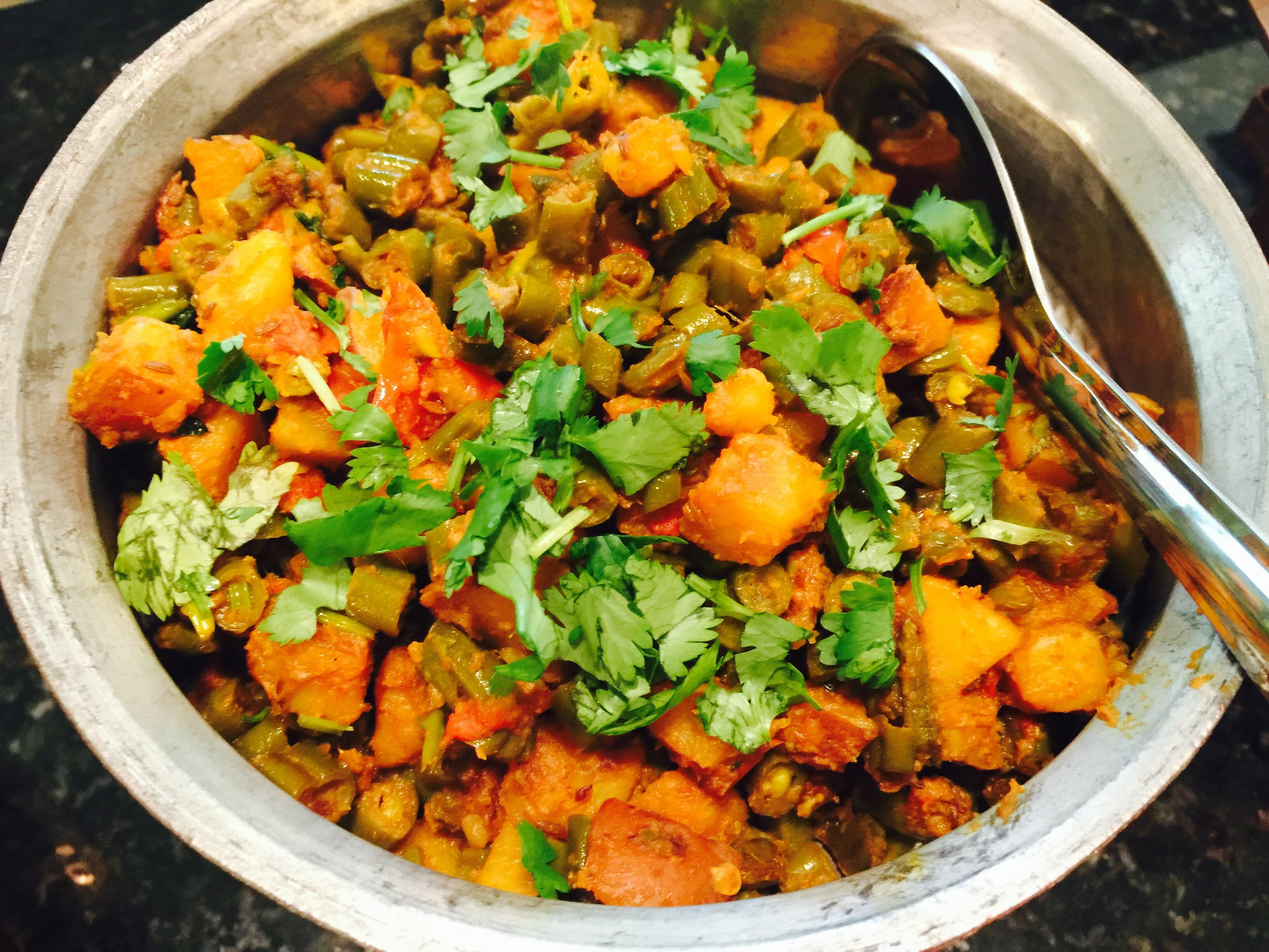AlooGobi: (69, 0, 1165, 906)
